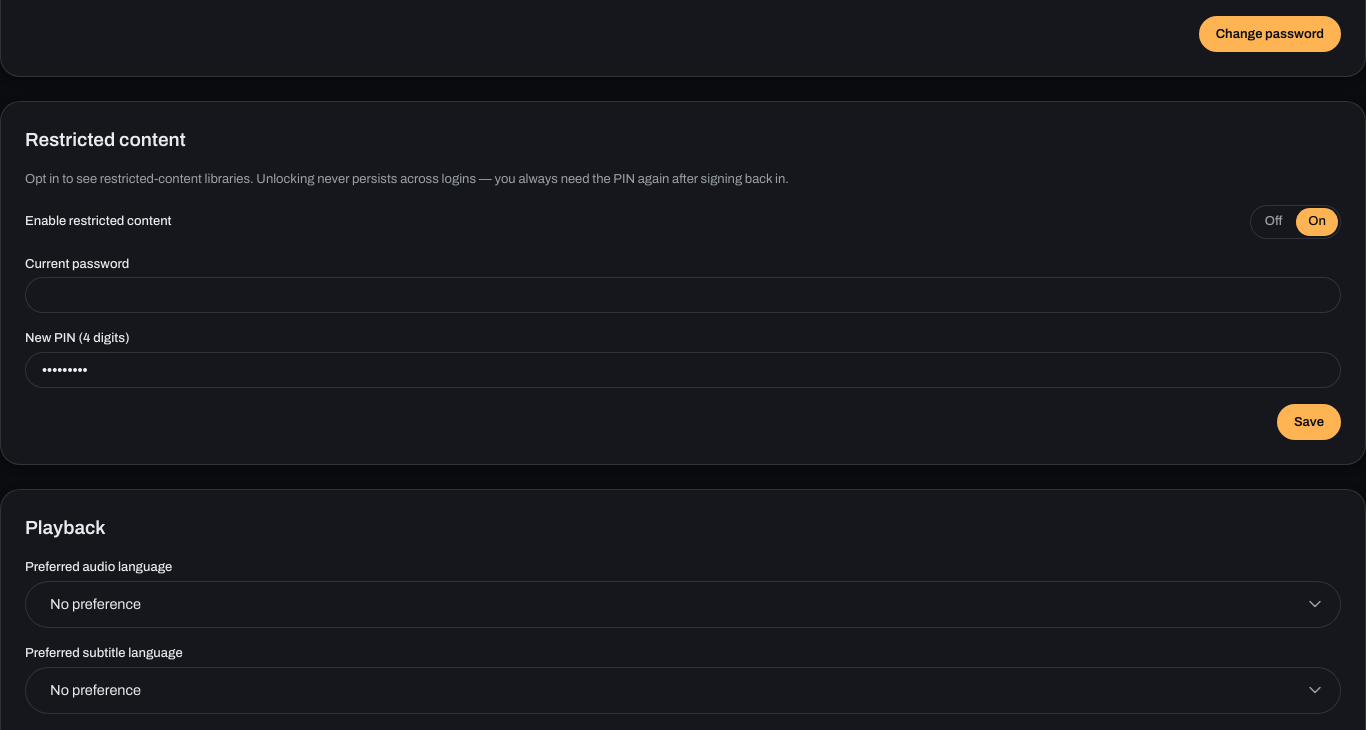
Test: ProfileSettings › restricted-content PIN › clamps the New PIN field to PIN_LENGTH digits and strips non-digits
(page scrolled)
Type "1a2b3c4d5" into the password field labelled "New PIN (4 digits)" at (683, 370), box [25,352,1341,388]
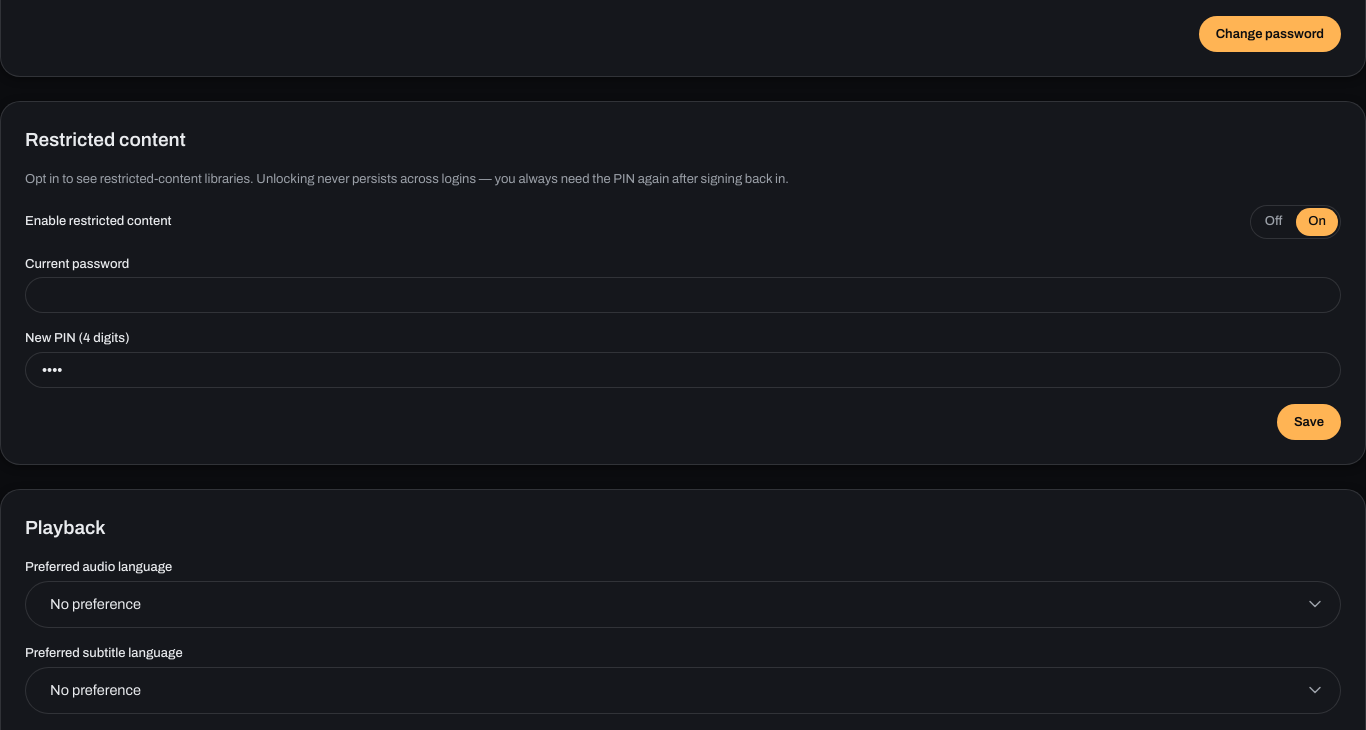
Expected: the password field labelled "New PIN (4 digits)" holds "1234", [25,352,1341,388]
